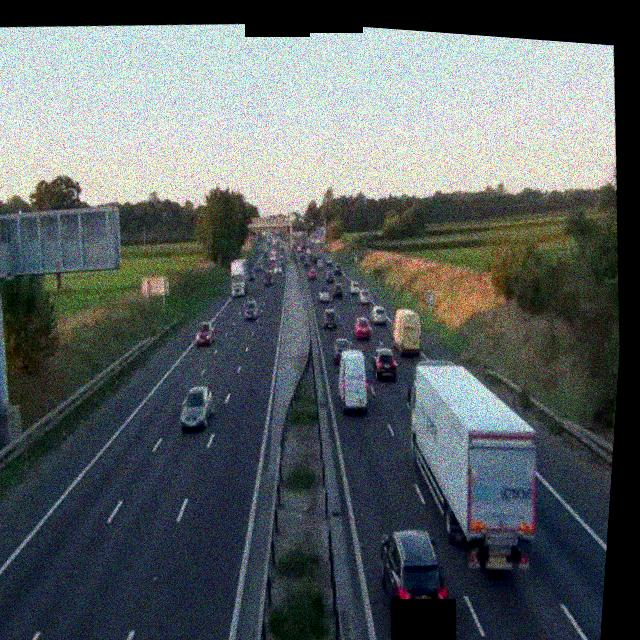car: (372, 525, 455, 640), (333, 346, 373, 413), (177, 383, 216, 433), (369, 344, 398, 382), (193, 319, 216, 347), (352, 314, 373, 340), (371, 304, 391, 326), (243, 298, 260, 320), (322, 306, 337, 328), (316, 285, 331, 303), (330, 282, 344, 300), (357, 288, 372, 304), (349, 279, 362, 296), (256, 270, 267, 284), (271, 264, 281, 278), (308, 267, 318, 280)
truck: (395, 351, 553, 581), (390, 306, 424, 355), (229, 256, 251, 297)
